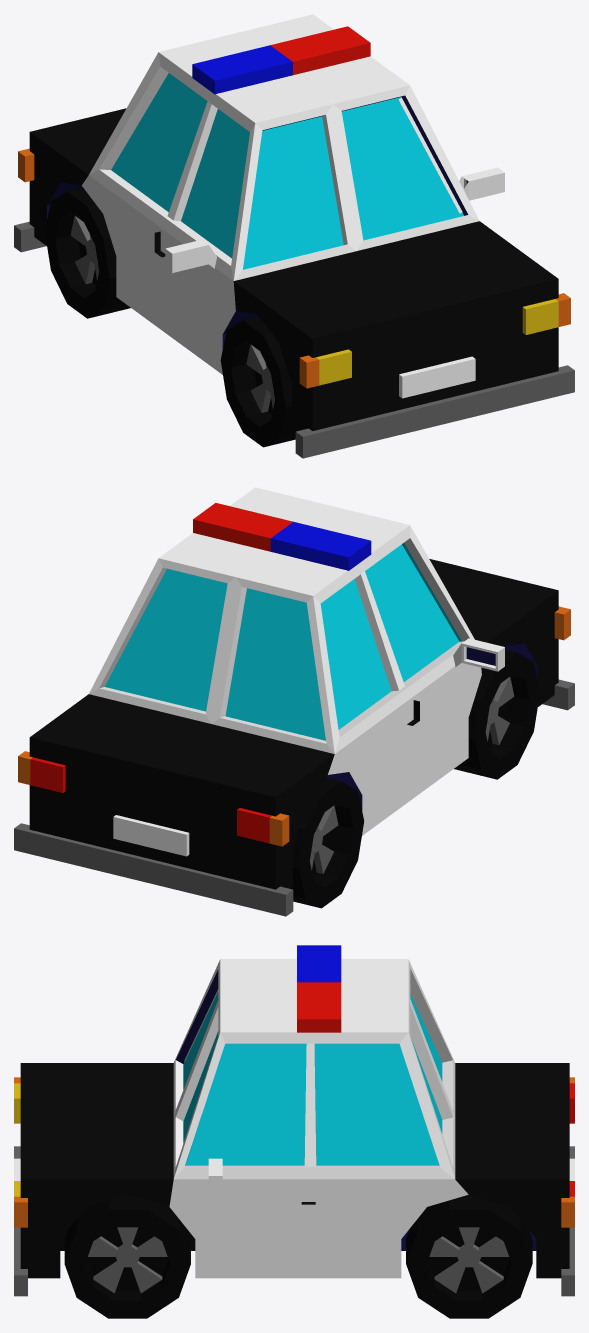
Rendered from Police Car TEST.fbx.
3 renders of one model, top to bottom at view 1: azimuth 30°, elevation 25°; view 2: azimuth 150°, elevation 25°; view 3: azimuth 270°, elevation 25°, orthographic. The views are drawn at different scales.
Visible parts, largest first — view 1: Car Body.001, Back Right Wheel.001, Front Right Wheel .001, Cube; view 2: Car Body.001, Back Right Wheel.001, Front Right Wheel .001, Cube; view 3: Car Body.001, Back Left Wheel.001, Front Left Wheel.001, Cube.
Part boxes in pixels (x1,y1,x2,y2): Car Body.001: [14, 14, 574, 458]; Back Right Wheel.001: [44, 188, 130, 318]; Front Right Wheel .001: [220, 316, 298, 447]; Cube: [192, 26, 370, 94]; Car Body.001: [14, 487, 574, 916]; Back Right Wheel.001: [290, 777, 364, 908]; Front Right Wheel .001: [454, 649, 539, 779]; Cube: [193, 503, 371, 570]; Car Body.001: [14, 959, 574, 1296]; Back Left Wheel.001: [406, 1194, 532, 1318]; Front Left Wheel.001: [64, 1194, 190, 1318]; Cube: [297, 945, 341, 1032].
Size of the model in its own units: 333 by 271 by 501.
